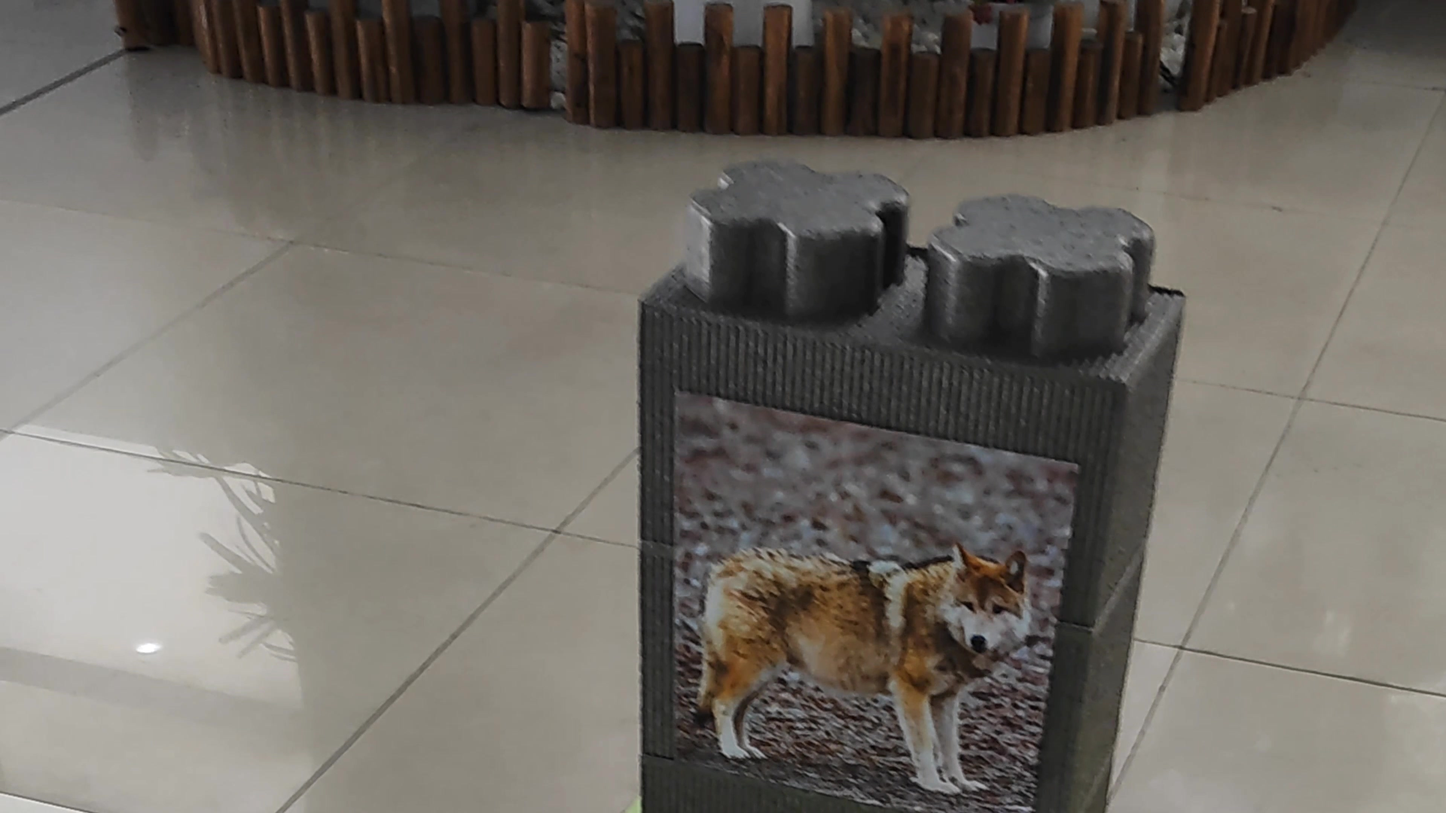wolf: (646, 495, 1031, 803)
